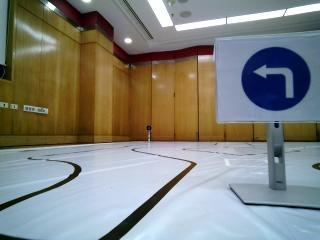left: (217, 42, 317, 118)
